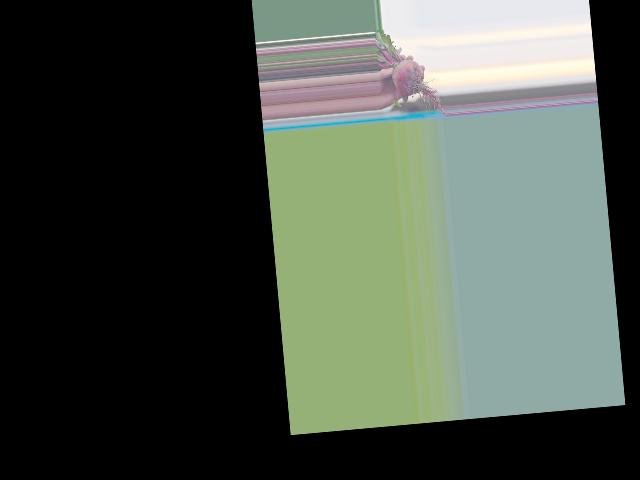beet: (374, 24, 446, 121)
